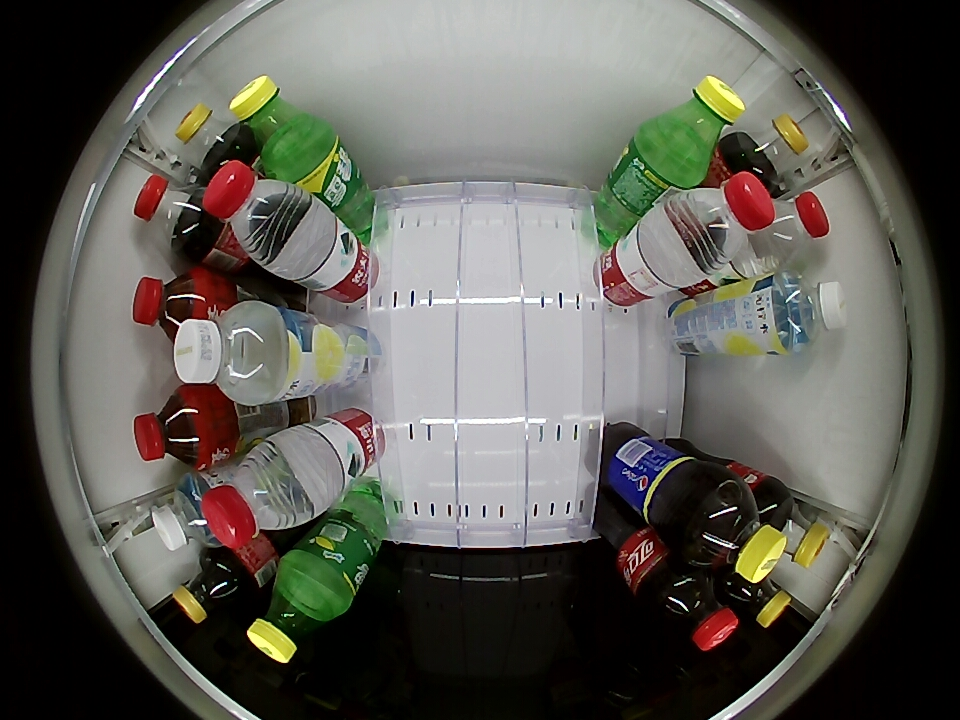baishikele: (686, 480, 787, 583)
binghongcha: (132, 387, 215, 467), (132, 270, 213, 342)
kele-b: (651, 567, 739, 650), (134, 174, 214, 254)
kele-b-2: (734, 113, 808, 184), (764, 491, 831, 569), (173, 553, 245, 625), (174, 102, 244, 173), (726, 571, 792, 629)
nongfushanquan: (659, 171, 777, 283), (201, 437, 313, 549), (203, 158, 306, 262), (753, 190, 830, 268)
qinningshui: (174, 300, 291, 405), (767, 271, 847, 354), (151, 475, 223, 550)
xuebi-b: (648, 74, 746, 171), (247, 565, 342, 663), (229, 75, 321, 166)
